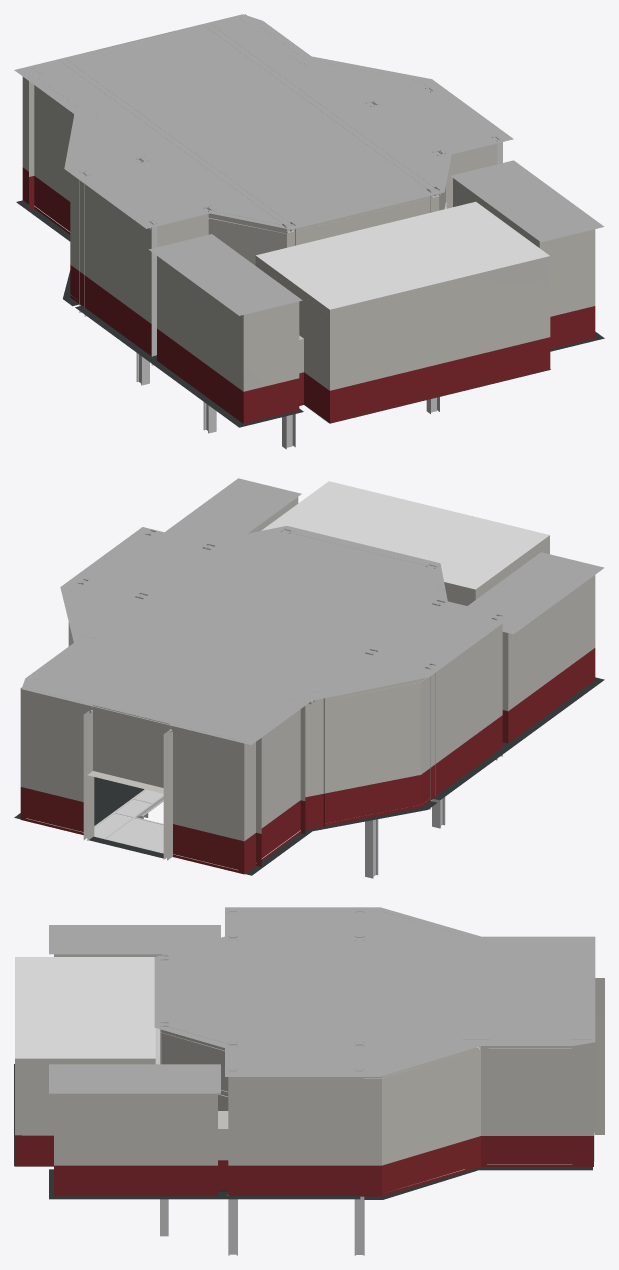
The model's file is SM_H_Building_Tide_InterrogationRoom_09_ATLAS.fbx.
3 views of the same model, one above another, from view 1: azimuth 30°, elevation 25°; view 2: azimuth 150°, elevation 25°; view 3: azimuth 270°, elevation 25° (orthographic). The views are drawn at different scales.
Parts seen in each view (by area): view 1: SM_H_Building_Tide_InterrogationRoom_09_ATLAS; view 2: SM_H_Building_Tide_InterrogationRoom_09_ATLAS; view 3: SM_H_Building_Tide_InterrogationRoom_09_ATLAS.
Part boxes in pixels (box(x1,y1,x2,y2)): SM_H_Building_Tide_InterrogationRoom_09_ATLAS: box(14, 14, 604, 449); SM_H_Building_Tide_InterrogationRoom_09_ATLAS: box(14, 478, 604, 878); SM_H_Building_Tide_InterrogationRoom_09_ATLAS: box(14, 907, 604, 1255).
Size of the model in its own units: 1505 by 2214 by 873.
